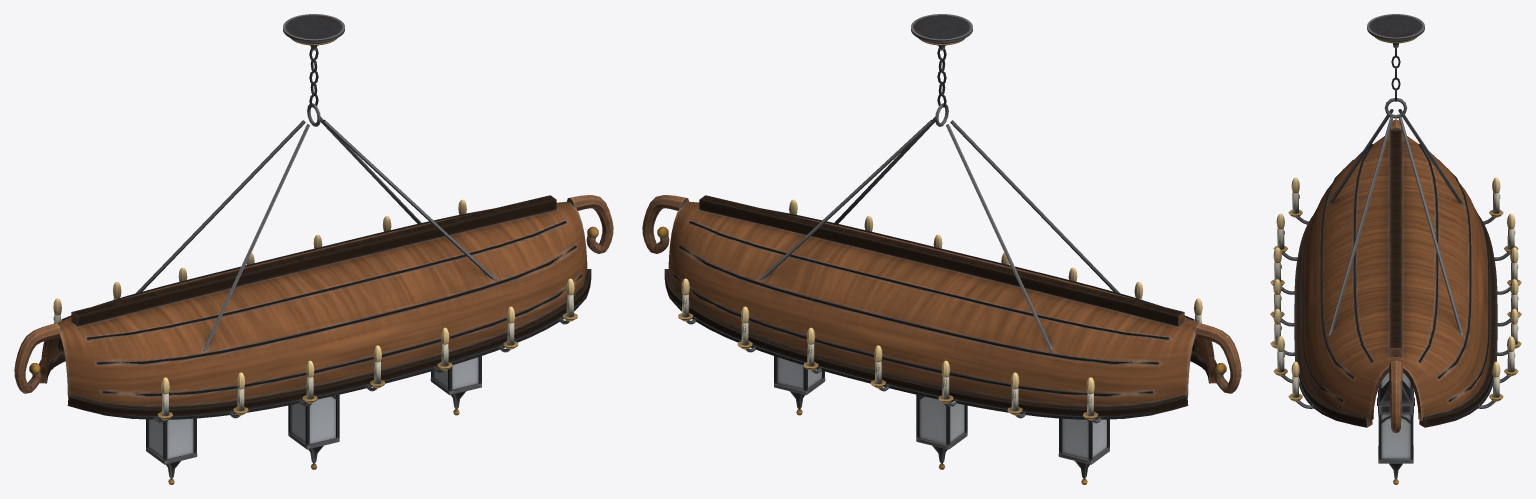
The model's file is ChandelierShipHull.fbx.
3 renders of one model, left to right at view 1: azimuth 30°, elevation 25°; view 2: azimuth 150°, elevation 25°; view 3: azimuth 270°, elevation 25°, orthographic. The views are drawn at different scales.
Parts seen in each view (by area): view 1: ChandelierShipHull_Main, ChandelierShipHull_Glass, ChandelierShipHull_Glow; view 2: ChandelierShipHull_Main, ChandelierShipHull_Glass, ChandelierShipHull_Glow; view 3: ChandelierShipHull_Main, ChandelierShipHull_Glow, ChandelierShipHull_Glass.
Boxes of the visible parts, <box> form: ChandelierShipHull_Main: <box>14,14,613,484</box>; ChandelierShipHull_Glass: <box>149,357,478,459</box>; ChandelierShipHull_Glow: <box>53,199,574,394</box>; ChandelierShipHull_Main: <box>642,14,1241,484</box>; ChandelierShipHull_Glass: <box>777,357,1106,459</box>; ChandelierShipHull_Glow: <box>681,199,1202,394</box>; ChandelierShipHull_Main: <box>1270,14,1521,484</box>; ChandelierShipHull_Glow: <box>1273,177,1518,377</box>; ChandelierShipHull_Glass: <box>1381,373,1410,458</box>.
Bounding box in the file's own units: 797 × 564 × 312.
